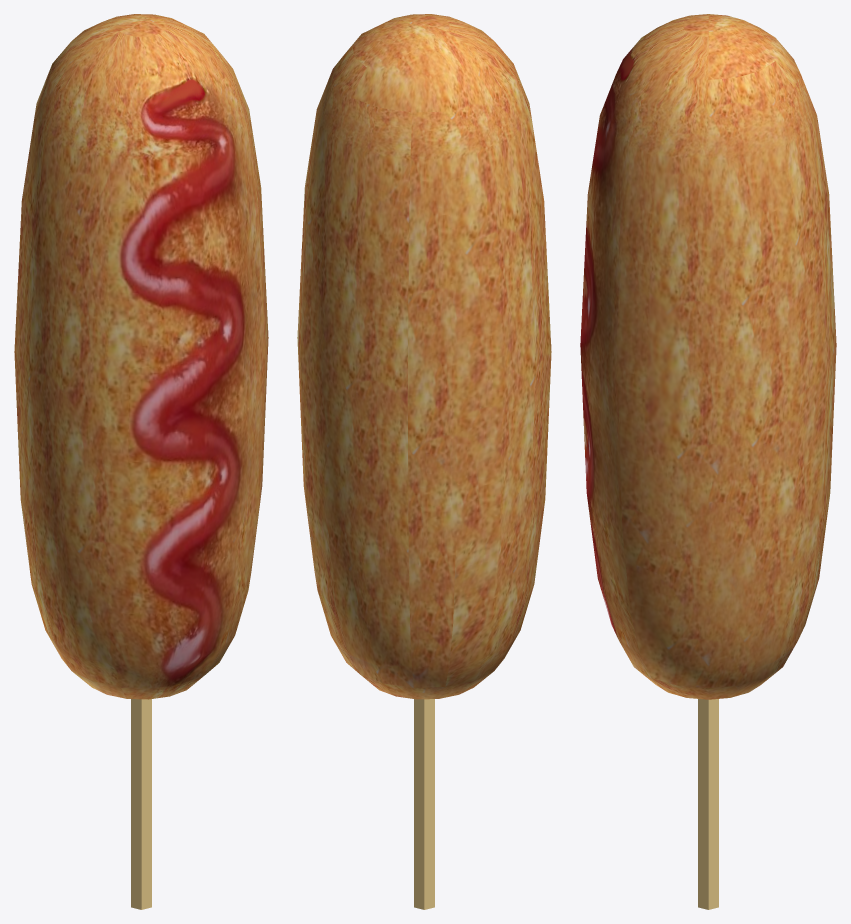
The model's file is Corndog.fbx.
The picture shows the model from 3 angles, left to right: view 1: azimuth 30°, elevation 25°; view 2: azimuth 150°, elevation 25°; view 3: azimuth 270°, elevation 25°; orthographic projection.
Visible parts, largest first — view 1: Sphere, Cylinder; view 2: Sphere, Cylinder; view 3: Sphere, Cylinder.
Part boxes in pixels (x1,y1,x2,y2): Sphere: (14, 14, 268, 699); Cylinder: (131, 699, 151, 909); Sphere: (297, 14, 551, 699); Cylinder: (414, 699, 434, 909); Sphere: (580, 14, 836, 699); Cylinder: (698, 699, 718, 909).
Bounding box in the file's own units: 196 × 745 × 196.
Materials: 2 (1 with a texture image).
